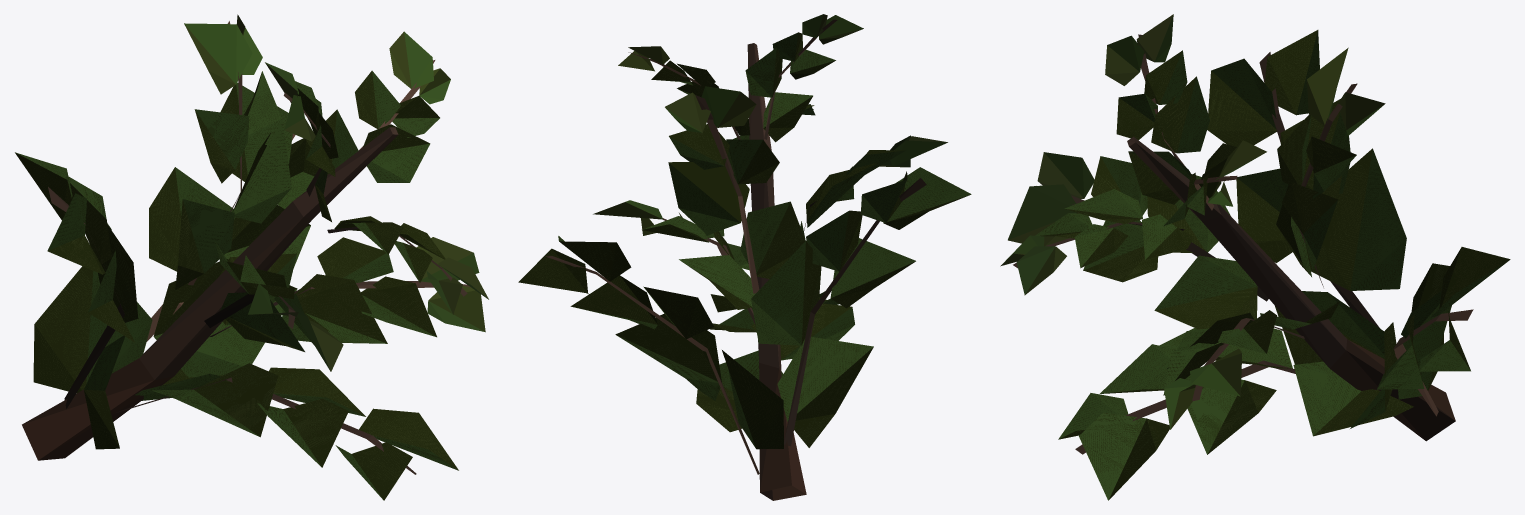
The model's file is fire-battlestaff.obj.
3 renders of one model, left to right at view 1: azimuth 30°, elevation 25°; view 2: azimuth 150°, elevation 25°; view 3: azimuth 270°, elevation 25°, orthographic. The views are drawn at different scales.
Visible parts, largest first — view 1: Object Fire battlestaff 2026-09-24_19-52-47; view 2: Object Fire battlestaff 2026-09-24_19-52-47; view 3: Object Fire battlestaff 2026-09-24_19-52-47.
Boxes of the visible parts, bbox=[...] form: Object Fire battlestaff 2026-09-24_19-52-47: bbox=[15, 14, 488, 500]; Object Fire battlestaff 2026-09-24_19-52-47: bbox=[518, 14, 971, 500]; Object Fire battlestaff 2026-09-24_19-52-47: bbox=[1000, 14, 1510, 500].
Bounding box in the file's own units: 126 × 129 × 130.
